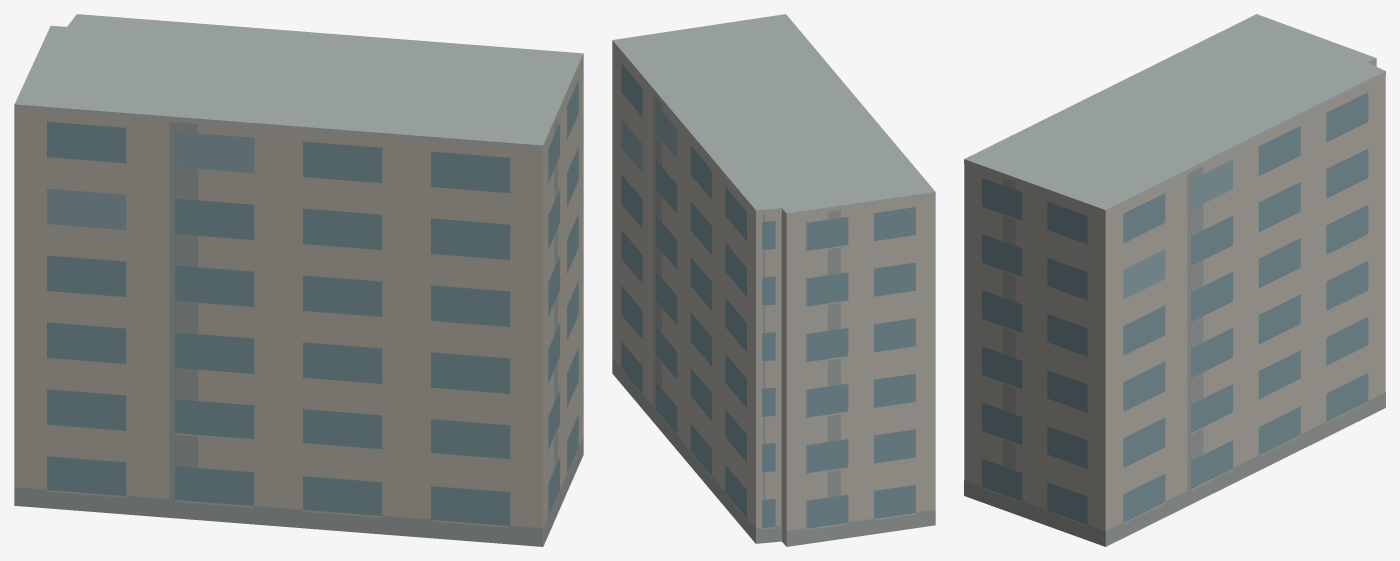
The model's file is survey-upis-33045083.glb.
3 renders of one model, left to right at view 1: azimuth 30°, elevation 25°; view 2: azimuth 150°, elevation 25°; view 3: azimuth 270°, elevation 25°, orthographic. The views are drawn at different scales.
Visible parts, largest first — view 1: survey-upis-33045083.tmp; view 2: survey-upis-33045083.tmp; view 3: survey-upis-33045083.tmp.
Boxes of the visible parts, box(x1,y1,x2,y2) form: survey-upis-33045083.tmp: box(14, 14, 583, 546); survey-upis-33045083.tmp: box(612, 14, 935, 546); survey-upis-33045083.tmp: box(964, 14, 1385, 546).
Size of the model in its own units: 22.86 by 18.3 by 20.77.
